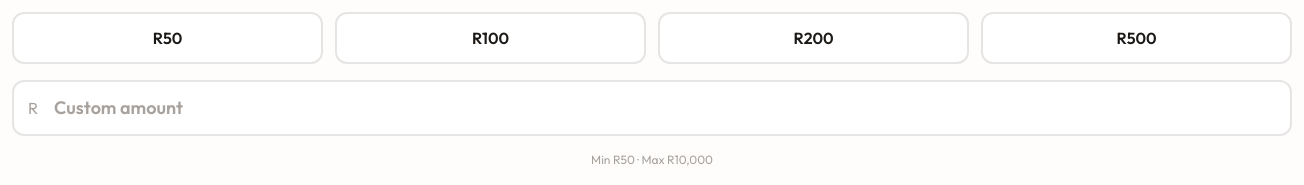
Scenario: AmountSelector component › hides min/max hint when error is shown
The width and height of the screenshot is (1304, 185).
Type "10" into the field with placeholder "Custom amount".
click(652, 108); type("10")  # box [12,80,1292,136]
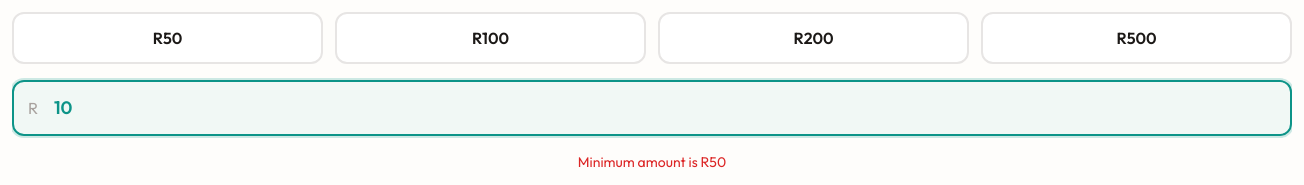
Now the text "Min R" is gone
